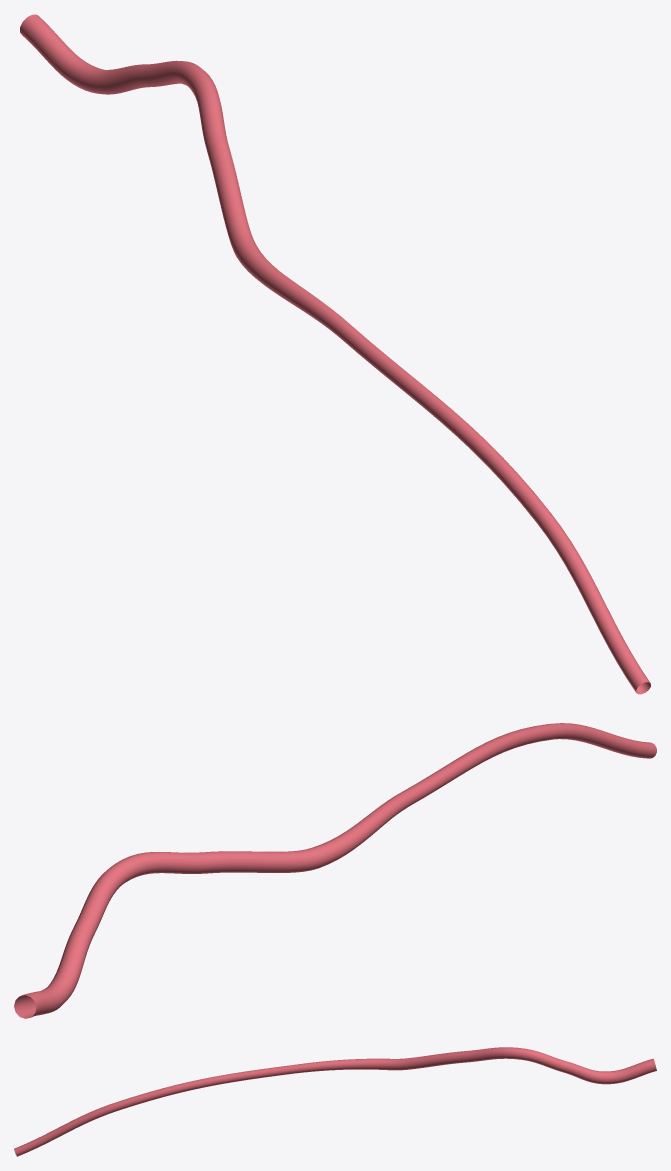
3 views of the same model, one above another, from view 1: azimuth 30°, elevation 25°; view 2: azimuth 150°, elevation 25°; view 3: azimuth 270°, elevation 25° (orthographic). The views are drawn at different scales.
Visible parts, largest first — view 1: ZA_b8ed6d4c7d5b7e3c; view 2: ZA_b8ed6d4c7d5b7e3c; view 3: ZA_b8ed6d4c7d5b7e3c.
Boxes of the visible parts, bbox=[...] form: ZA_b8ed6d4c7d5b7e3c: bbox=[20, 14, 650, 694]; ZA_b8ed6d4c7d5b7e3c: bbox=[14, 723, 656, 1018]; ZA_b8ed6d4c7d5b7e3c: bbox=[14, 1047, 656, 1156].
Size of the model in its own units: 0.00945 by 0.0209 by 0.0998.
